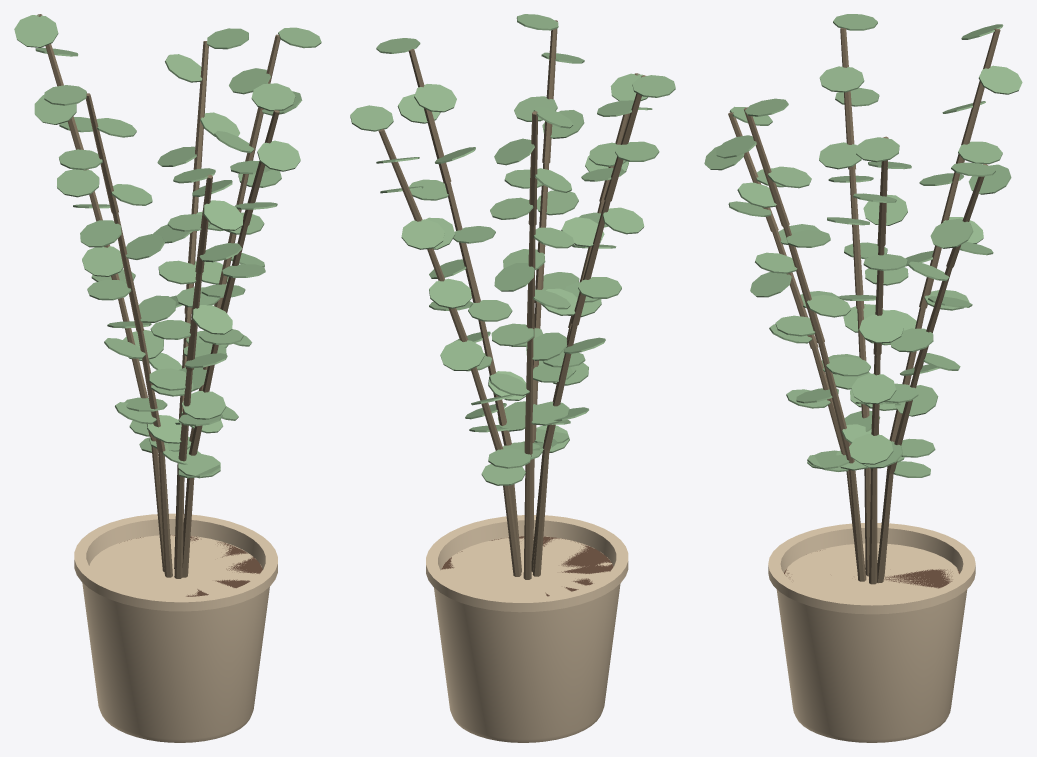
The model's file is plant_eucalyptus.glb.
3 views of the same model, side by side, from view 1: azimuth 30°, elevation 25°; view 2: azimuth 150°, elevation 25°; view 3: azimuth 270°, elevation 25° (orthographic). The views are drawn at different scales.
Visible parts, largest first — view 1: plant_eucalyptus; view 2: plant_eucalyptus; view 3: plant_eucalyptus.
Part boxes in pixels (box(x1,y1,x2,y2)): plant_eucalyptus: box(14, 14, 321, 742); plant_eucalyptus: box(350, 14, 675, 742); plant_eucalyptus: box(704, 14, 1022, 742).
Size of the model in its own units: 0.4 by 0.9 by 0.4.
